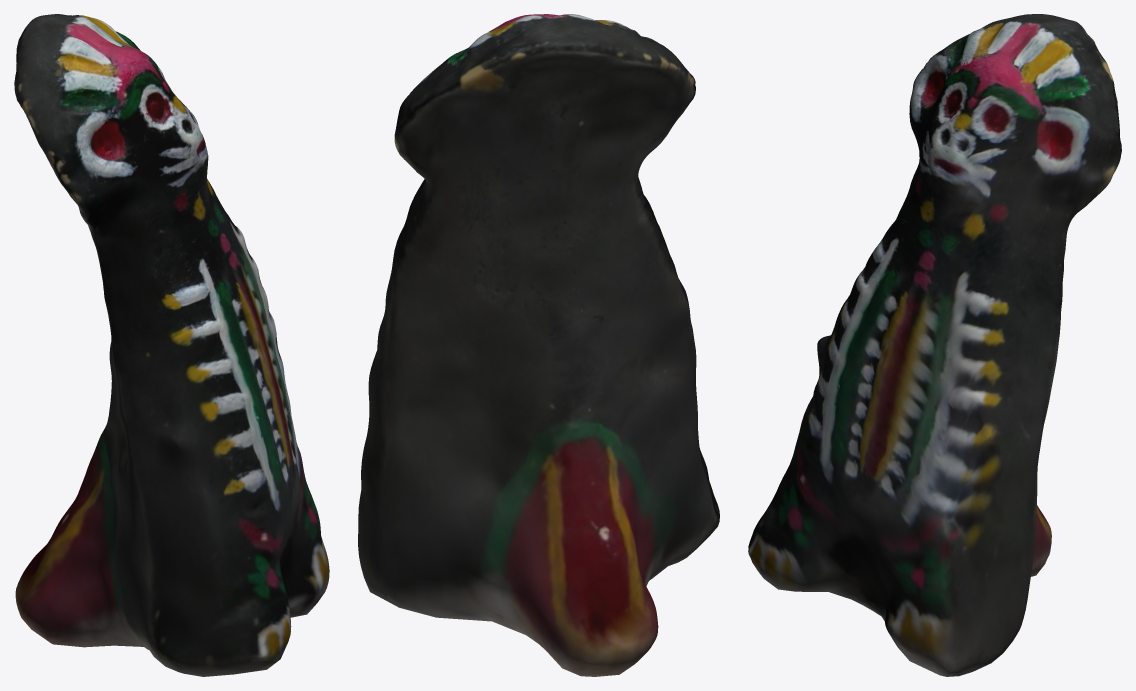
The picture shows the model from 3 angles, left to right: view 1: azimuth 30°, elevation 25°; view 2: azimuth 150°, elevation 25°; view 3: azimuth 270°, elevation 25°; orthographic projection. The views are drawn at different scales.
Size of the model in its own units: 0.319 by 0.6388 by 0.3811.
Materials: 1 (1 with a texture image).
